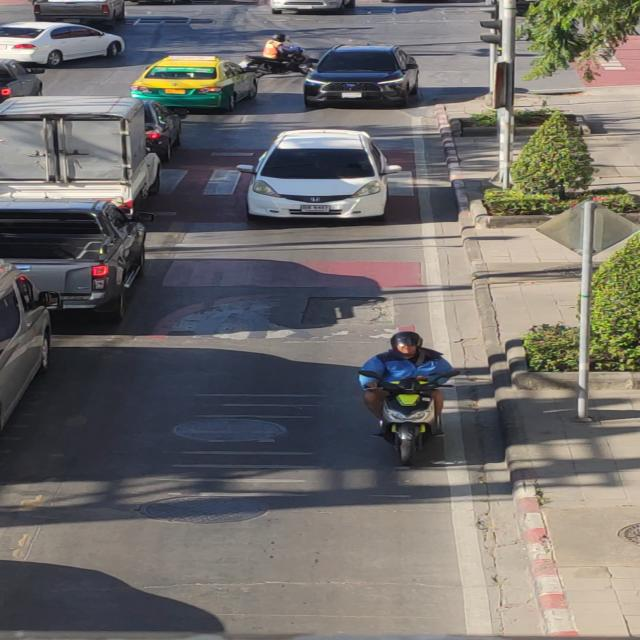car: (232, 128, 428, 236)
